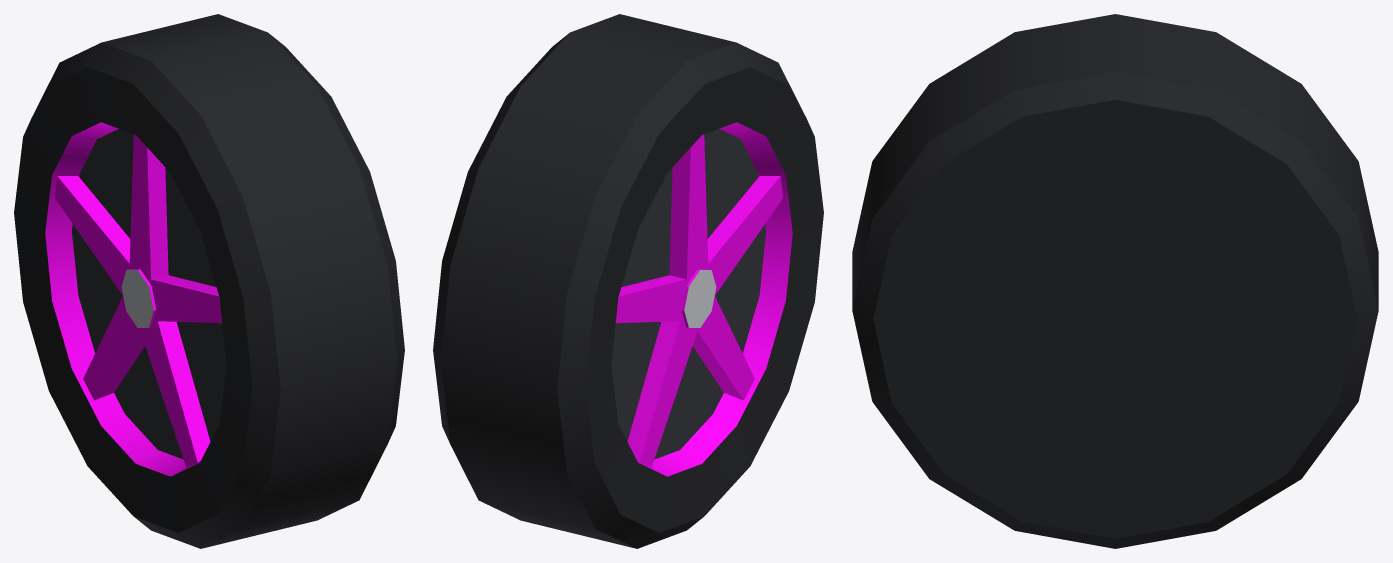
Rendered from rim_sport5.glb.
3 views of the same model, side by side, from view 1: azimuth 30°, elevation 25°; view 2: azimuth 150°, elevation 25°; view 3: azimuth 270°, elevation 25° (orthographic).
Parts seen in each view (by area): view 1: rim_sport5__mesh; view 2: rim_sport5__mesh; view 3: rim_sport5__mesh.
Boxes of the visible parts, left/top/right/bottom form: rim_sport5__mesh: left=14, top=14, right=404, bottom=548; rim_sport5__mesh: left=433, top=14, right=823, bottom=548; rim_sport5__mesh: left=852, top=14, right=1378, bottom=548.
Bounding box in the file's own units: 0.34 × 1 × 1.
1 material, 1 textured.
